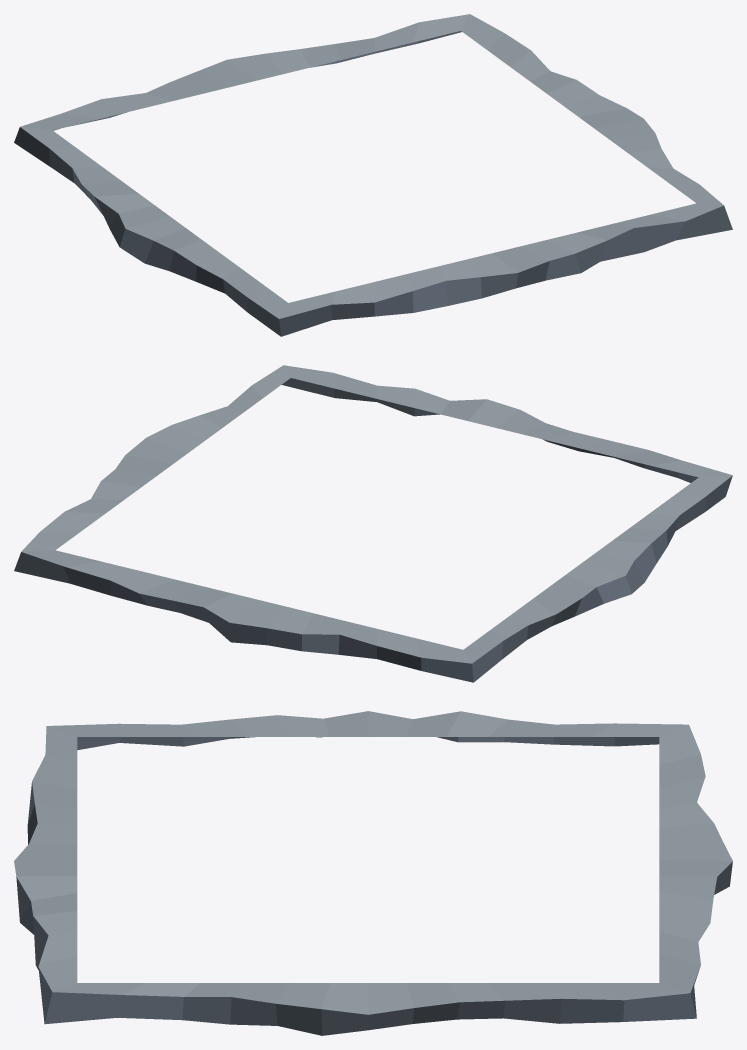
Rendered from entorno_18.glb.
3 renders of one model, top to bottom at view 1: azimuth 30°, elevation 25°; view 2: azimuth 150°, elevation 25°; view 3: azimuth 270°, elevation 25°, orthographic. The views are drawn at different scales.
Parts seen in each view (by area): view 1: pedreira_entorno_18; view 2: pedreira_entorno_18; view 3: pedreira_entorno_18.
Boxes of the visible parts, x1=… form: pedreira_entorno_18: x1=14, y1=14, x2=732, y2=336; pedreira_entorno_18: x1=14, y1=365, x2=732, y2=682; pedreira_entorno_18: x1=14, y1=711, x2=732, y2=1035.
Bounding box in the file's own units: 22.6 × 1.07 × 22.49.
